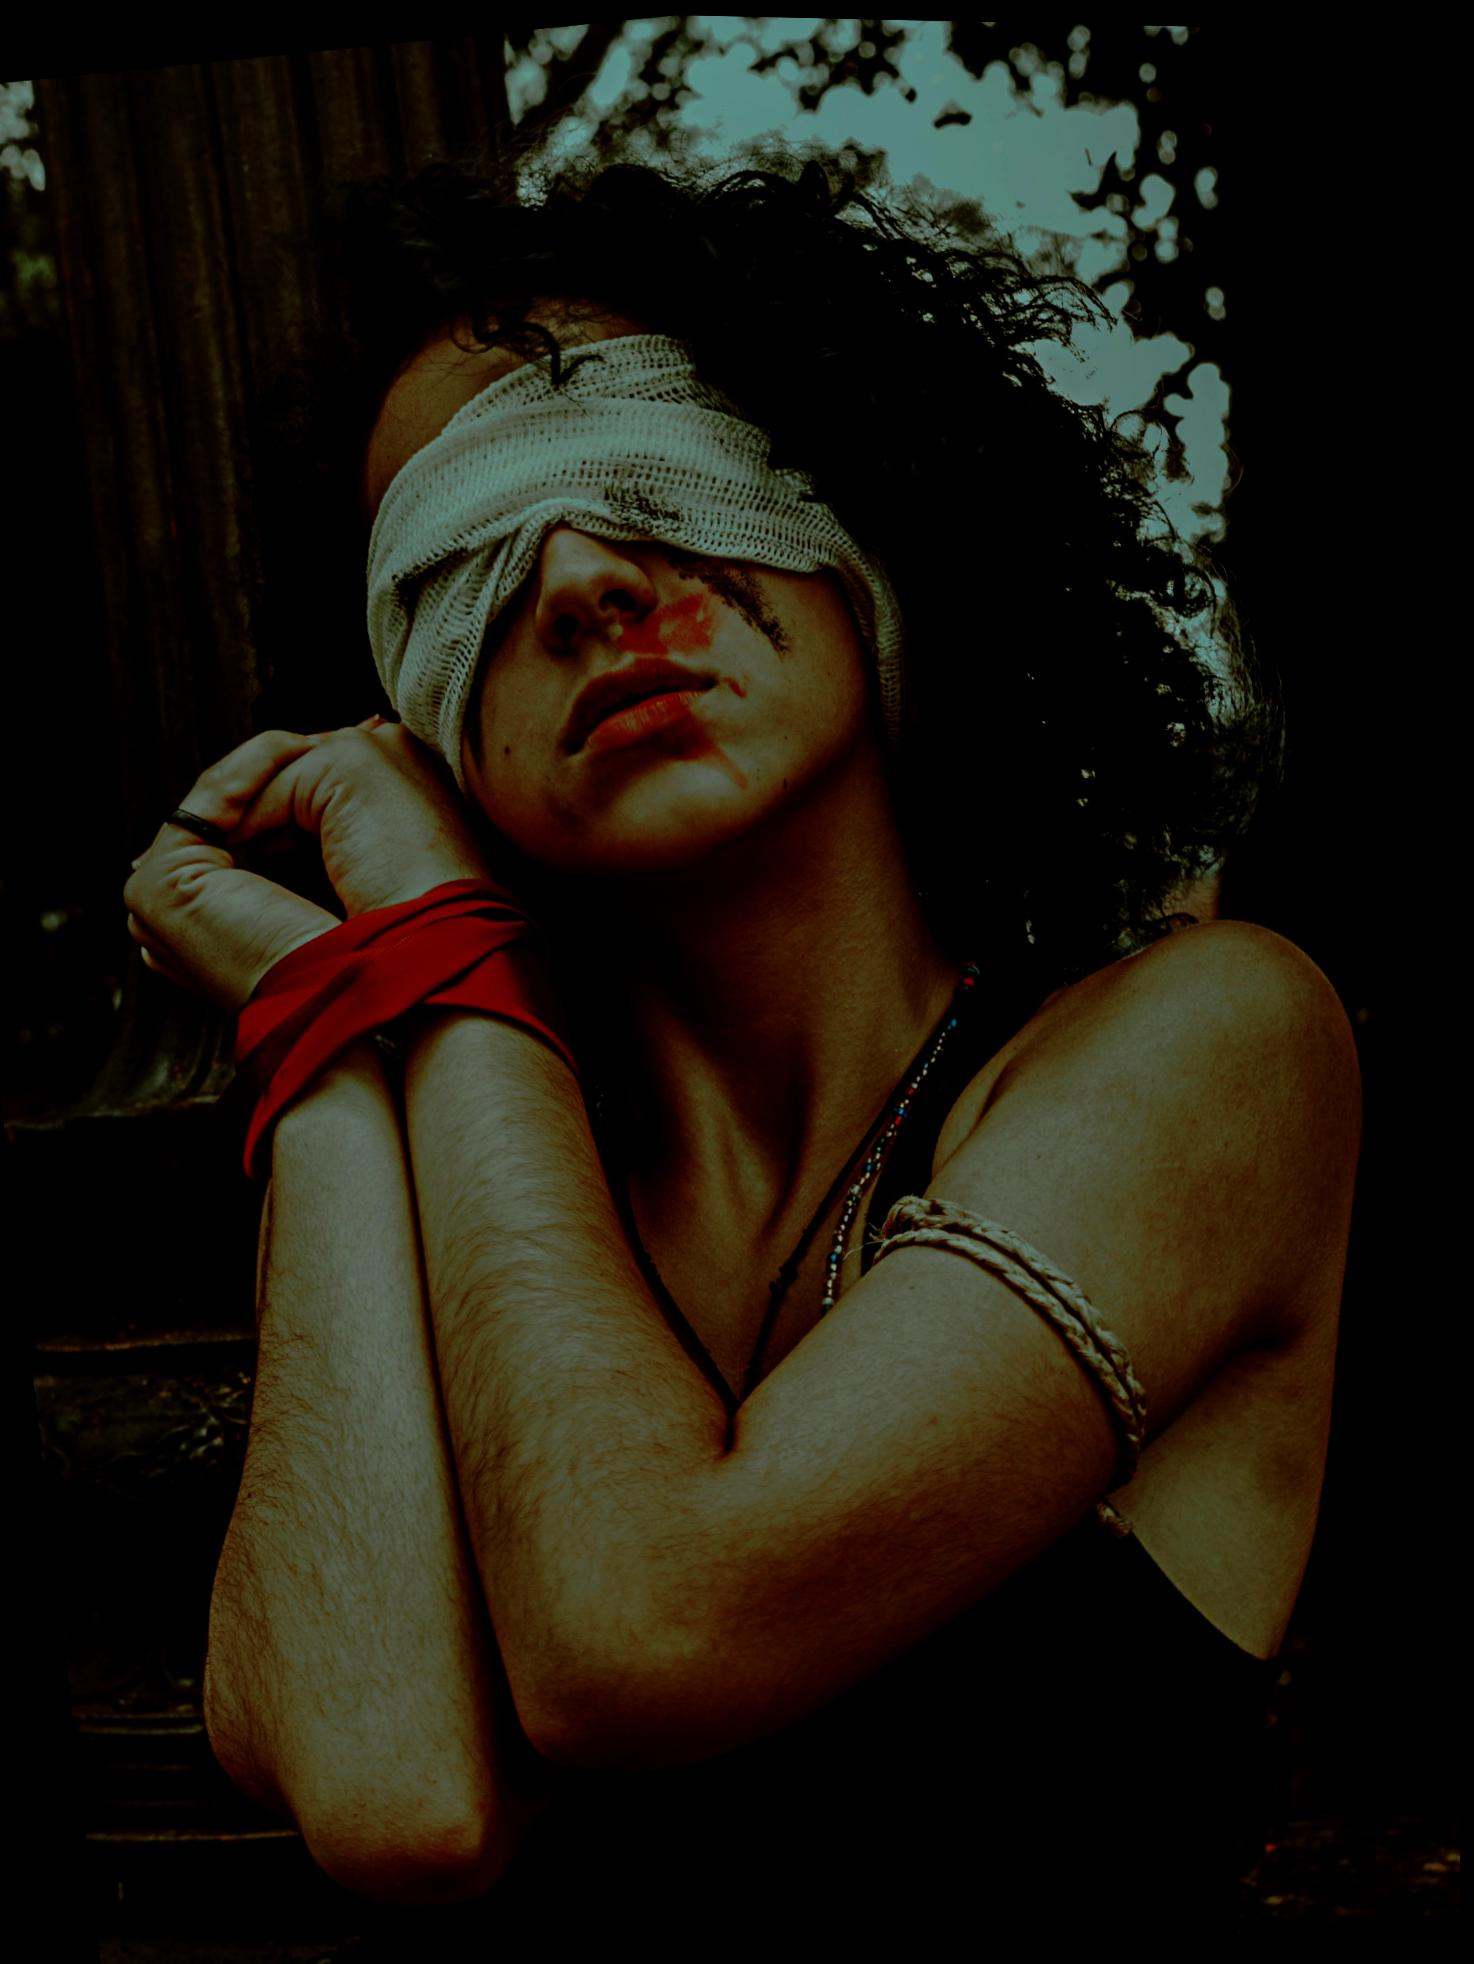Fire: (587, 577, 739, 765)
